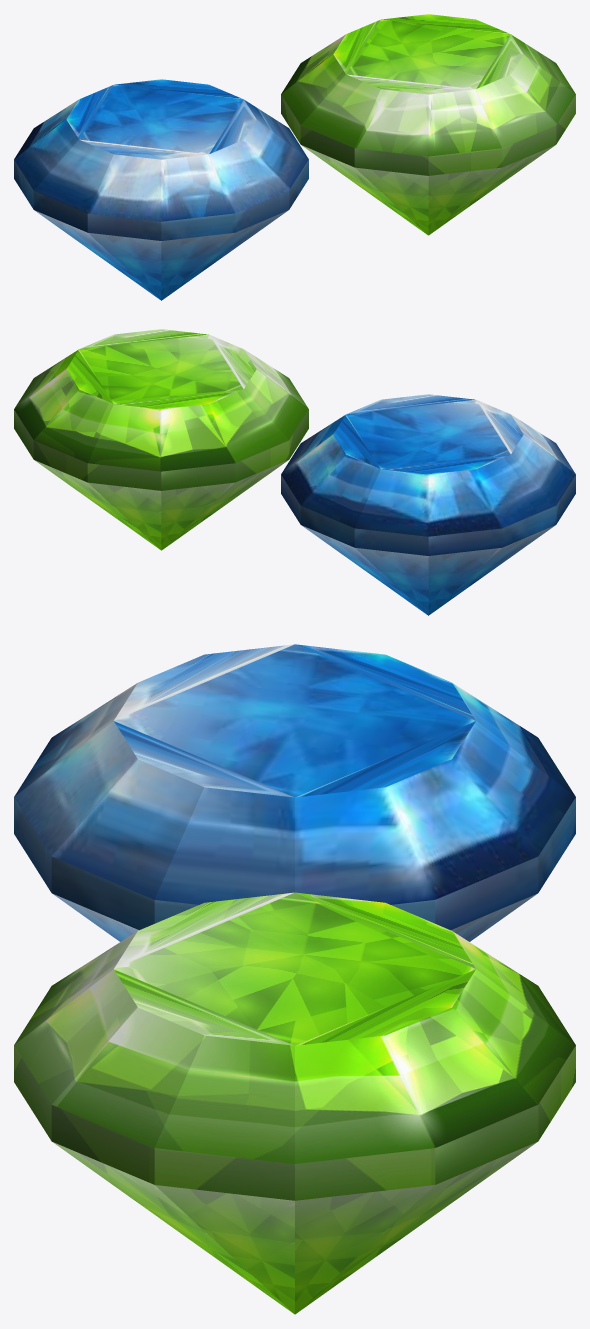
The model's file is daimond.FBX.
The picture shows the model from 3 angles, top to bottom: view 1: azimuth 30°, elevation 25°; view 2: azimuth 150°, elevation 25°; view 3: azimuth 270°, elevation 25°; orthographic projection. The views are drawn at different scales.
Visible parts, largest first — view 1: NGon002, NGon001; view 2: NGon002, NGon001; view 3: NGon002, NGon001.
Boxes of the visible parts, left/top/right/bottom form: NGon002: left=281, top=14, right=575, bottom=235; NGon001: left=14, top=79, right=308, bottom=300; NGon002: left=14, top=329, right=308, bottom=550; NGon001: left=281, top=394, right=575, bottom=615; NGon002: left=14, top=892, right=575, bottom=1314; NGon001: left=14, top=644, right=575, bottom=941.
Bounding box in the file's own units: 125 × 41.33 × 60.93.
Materials: 2 (2 with a texture image).
